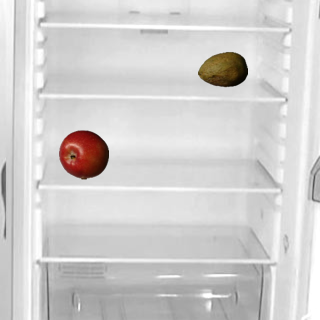Apple Braeburn: (58, 129, 108, 179)
Papaya: (197, 44, 247, 94)
